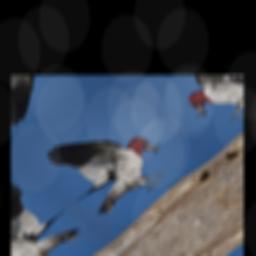Woodpecker: (32, 103, 182, 226)
